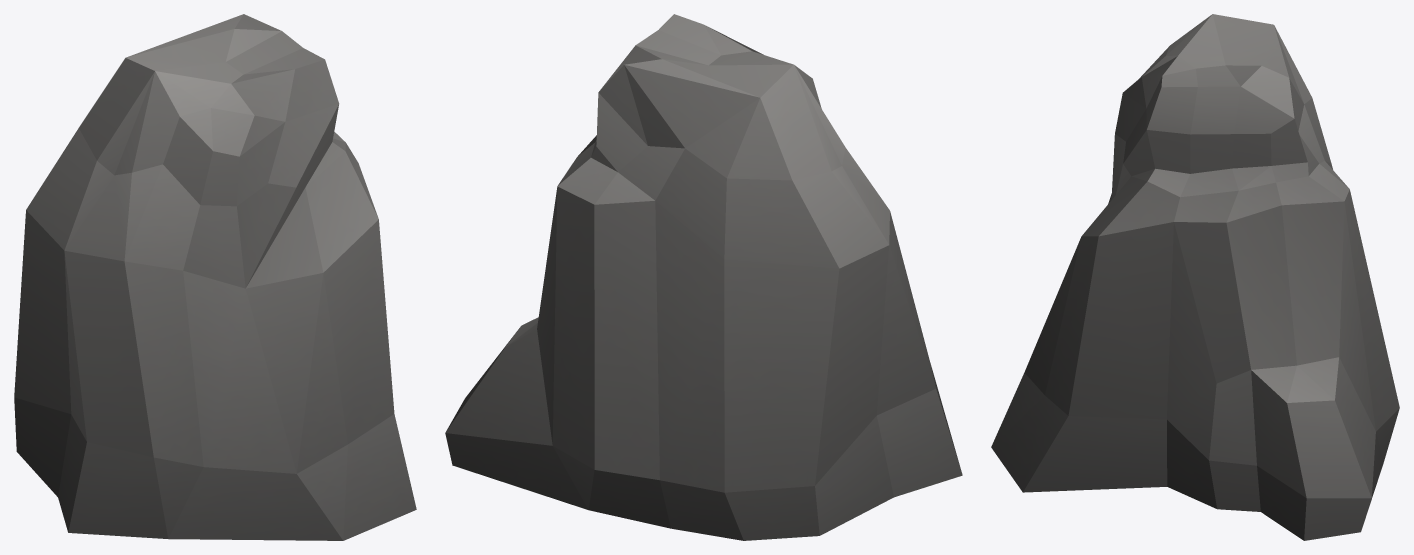
The model's file is RockPlainGrey3.fbx.
The picture shows the model from 3 angles, left to right: view 1: azimuth 30°, elevation 25°; view 2: azimuth 150°, elevation 25°; view 3: azimuth 270°, elevation 25°; orthographic projection. The views are drawn at different scales.
Visible parts, largest first — view 1: RockPlainGrey3; view 2: RockPlainGrey3; view 3: RockPlainGrey3.
Boxes of the visible parts, box(x1,y1,x2,y2) form: RockPlainGrey3: box(14, 14, 416, 540); RockPlainGrey3: box(445, 14, 962, 540); RockPlainGrey3: box(991, 14, 1399, 540).
Size of the model in its own units: 116 by 112 by 103.
